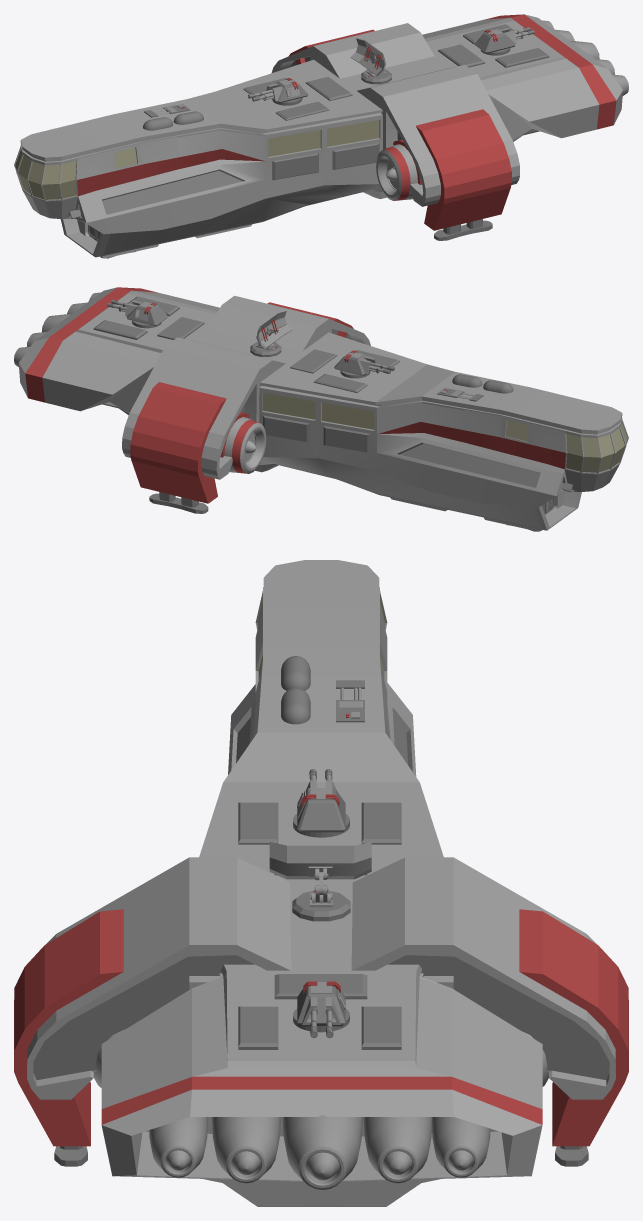
File: P_ToySpaceShip.fbx
The picture shows the model from 3 angles, top to bottom: view 1: azimuth 30°, elevation 25°; view 2: azimuth 150°, elevation 25°; view 3: azimuth 270°, elevation 25°; orthographic projection. The views are drawn at different scales.
Parts seen in each view (by area): view 1: Ship1; view 2: Ship1; view 3: Ship1.
Boxes of the visible parts, left/top/right/bottom form: Ship1: left=14, top=14, right=628, bottom=258; Ship1: left=14, top=287, right=628, bottom=531; Ship1: left=14, top=560, right=628, bottom=1206.
Bounding box in the file's own units: 42.21 × 10.08 × 20.48.
